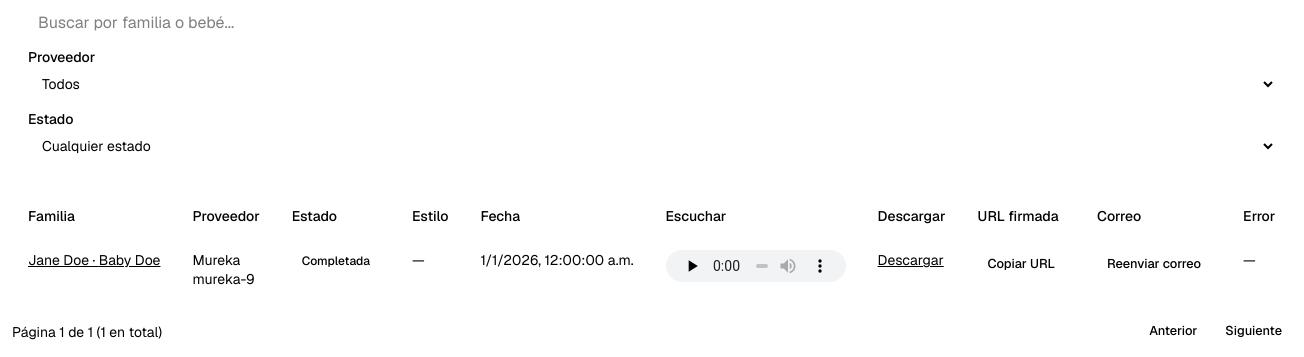
SongsList › copies the resolved signed URL to the clipboard, never re-resolving or persisting it
The image size is (1304, 357).
Click the button "Copiar URL" at (1021, 264), box [978,250,1065,278]
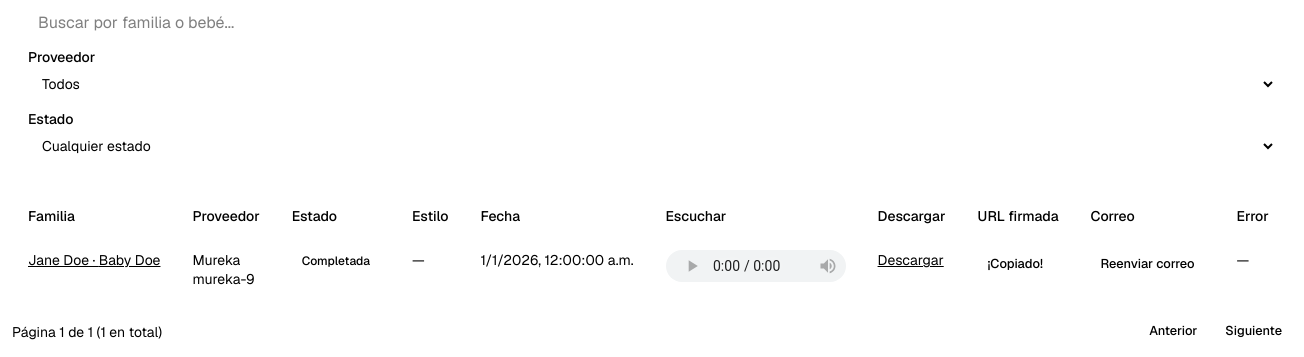
Now the button "¡Copiado!" is shown, box [978,250,1053,278]
